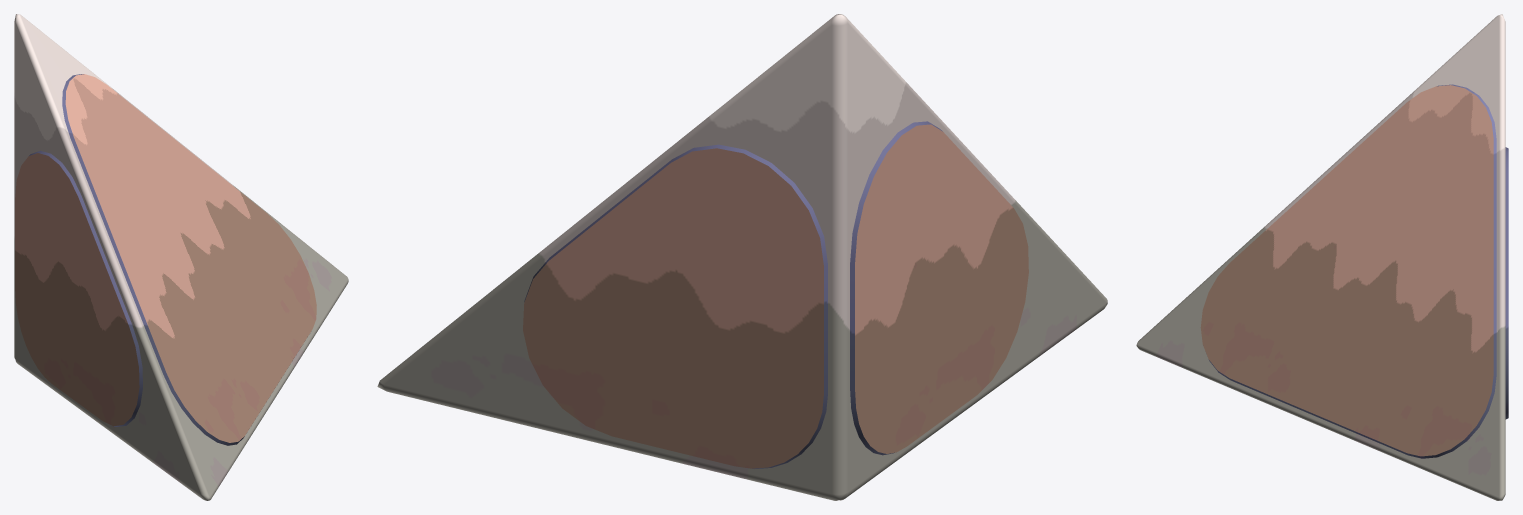
File: R4B_Tetra.glb
3 renders of one model, left to right at view 1: azimuth 30°, elevation 25°; view 2: azimuth 150°, elevation 25°; view 3: azimuth 270°, elevation 25°, orthographic. The views are drawn at different scales.
Parts seen in each view (by area): view 1: R4B_Tetra; view 2: R4B_Tetra; view 3: R4B_Tetra.
Boxes of the visible parts, bbox=[...] form: R4B_Tetra: bbox=[14, 14, 348, 500]; R4B_Tetra: bbox=[377, 14, 1107, 500]; R4B_Tetra: bbox=[1136, 14, 1508, 500].
Size of the model in its own units: 0.4892 by 0.4892 by 0.4892.
3 materials, 3 textured.
